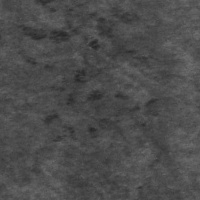rolled-in_scale: (22, 19, 117, 144)
